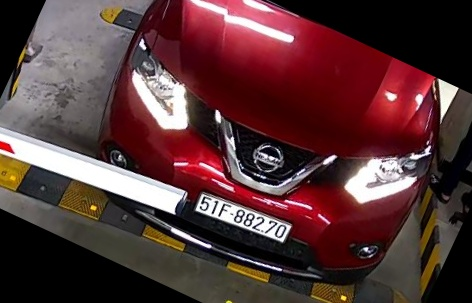plate: (188, 190, 295, 245)
